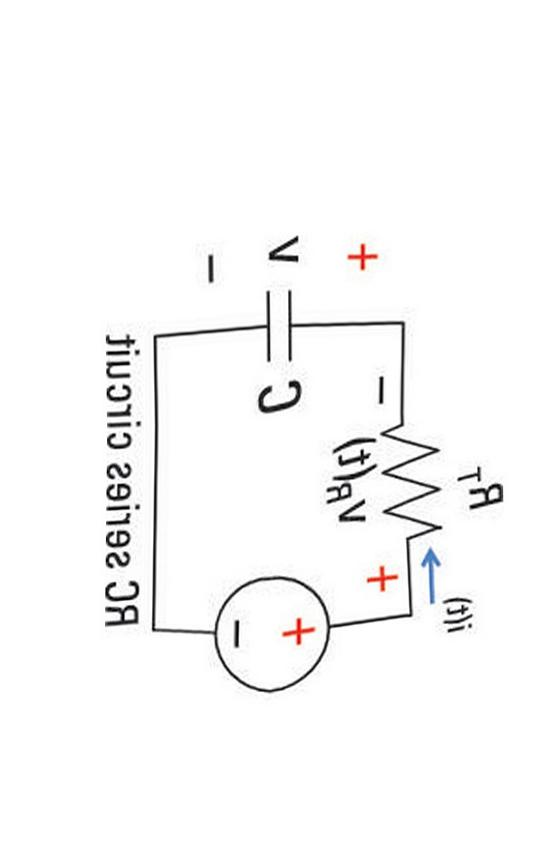Battery: (178, 558, 344, 722)
